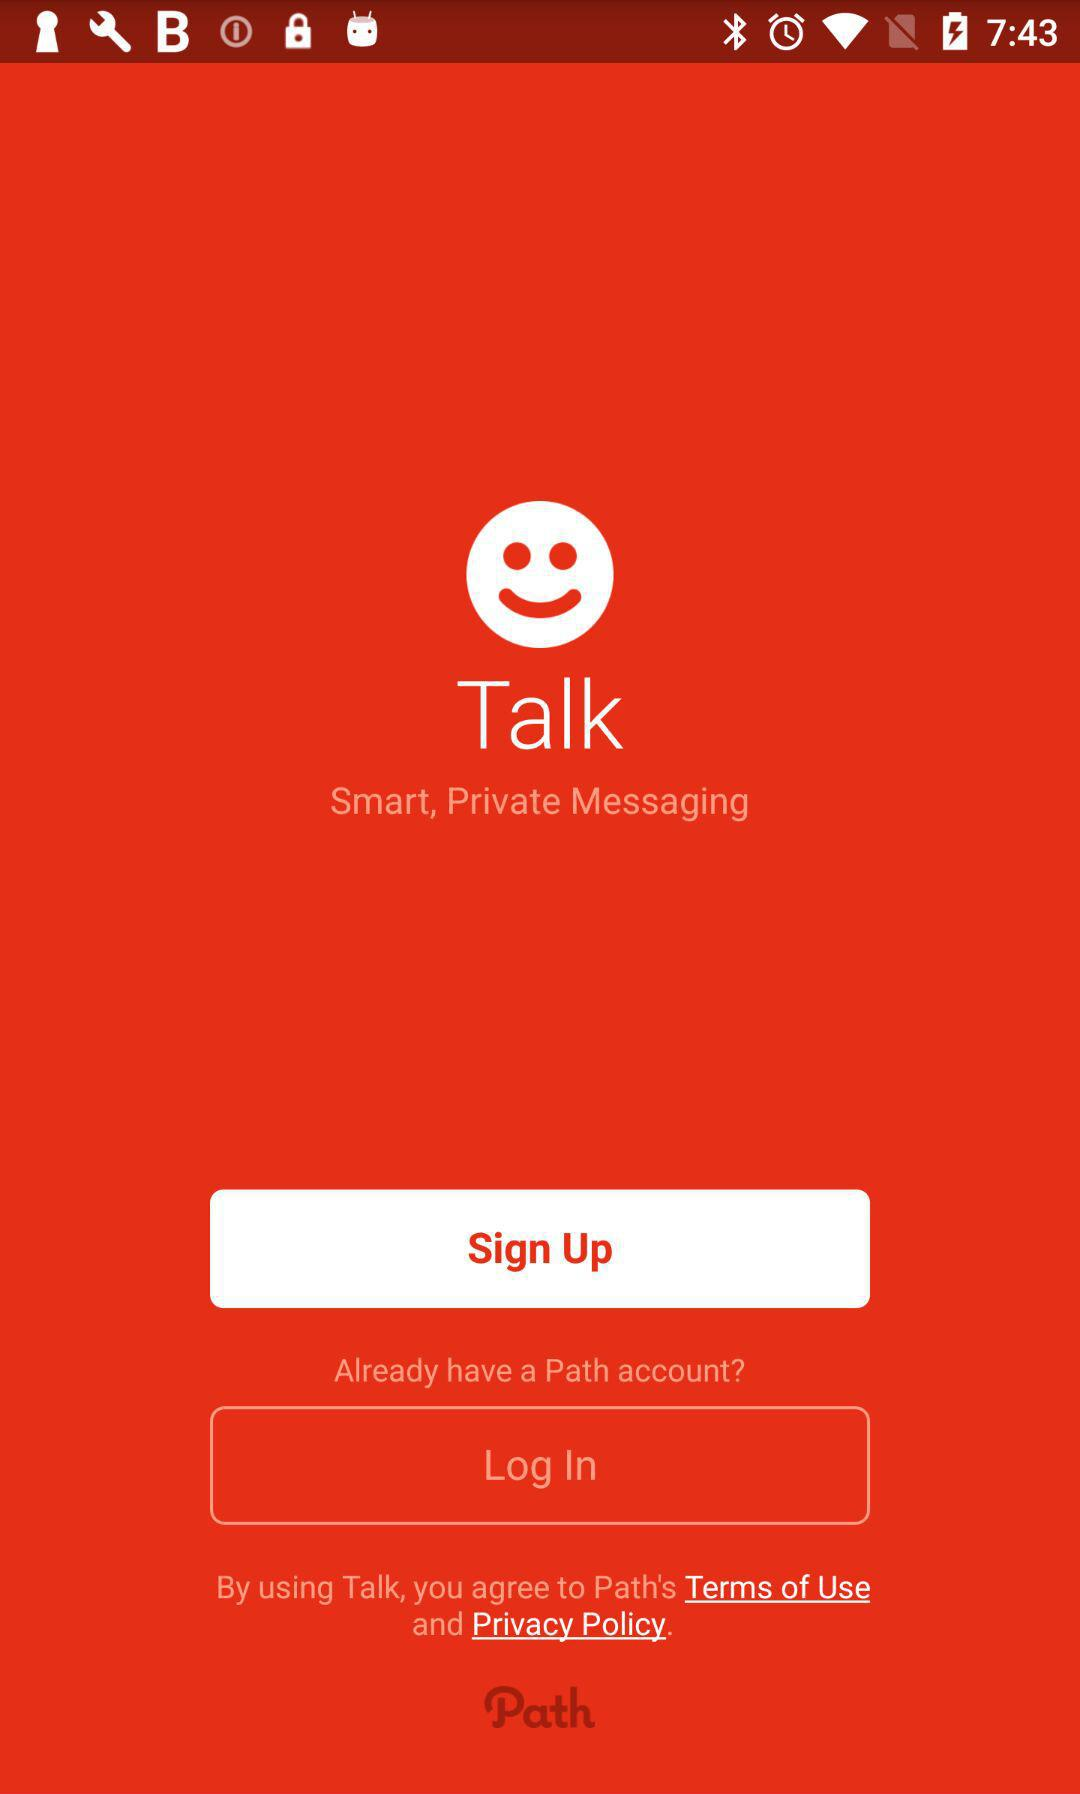Image: (466, 501, 615, 650), (484, 1685, 597, 1729)
Text: (218, 1574, 872, 1643), (331, 786, 749, 824), (334, 1356, 746, 1390), (456, 677, 625, 751)
TextButton: (210, 1404, 871, 1526), (210, 1189, 871, 1310)
UpperTaskBar: (1, 1, 1080, 64)
